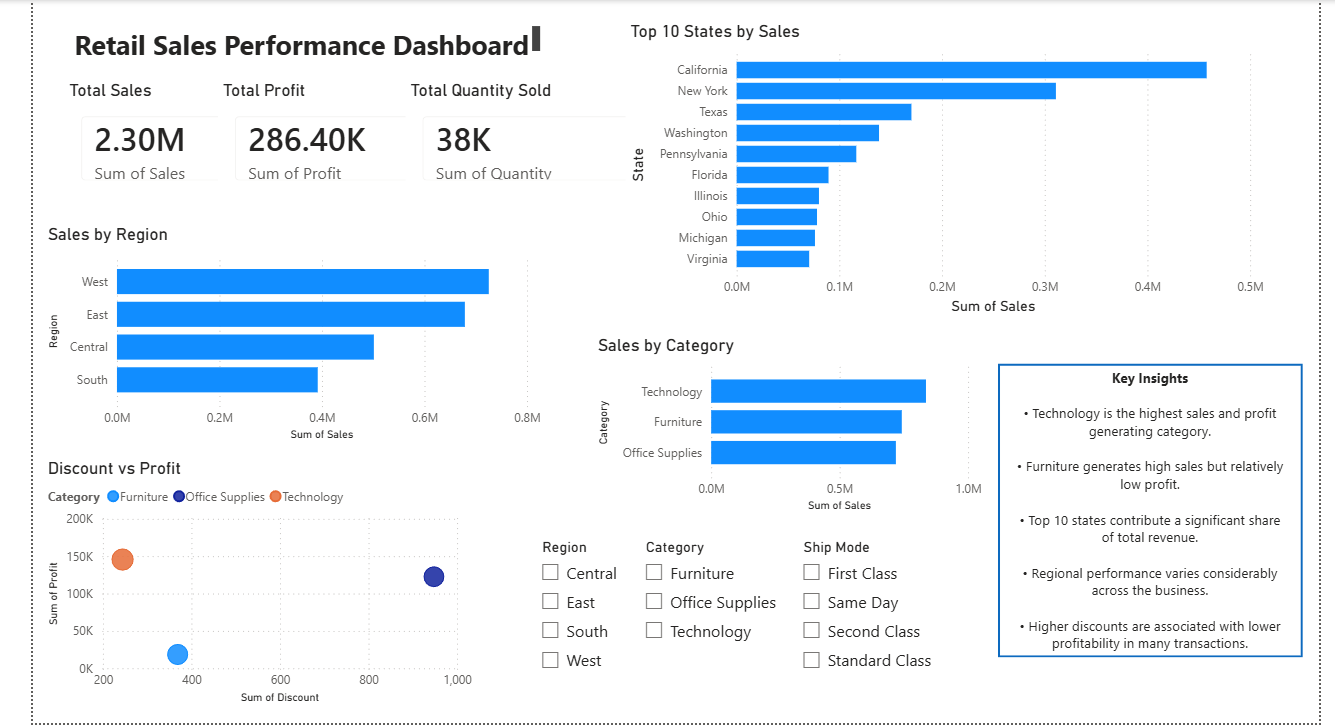

Layout of this report page (visuals, bound fields, positions):
{"tool":"powerbi","page":{"name":"Page 1","canvas":[1280,720],"ordinal":0},"visuals":[{"type":"cardVisual","title":"Total Sales","fields":{"Data":["Sum(SampleSuperstore.Sales)"]},"box":[31.6,79.6,152.3,118],"z":0},{"type":"cardVisual","title":"Total Profit","fields":{"Data":["Sum(SampleSuperstore.Profit)"]},"box":[183.9,79.6,175.6,118],"z":1000},{"type":"cardVisual","title":"Total Quantity Sold","fields":{"Data":["Sum(SampleSuperstore.Quantity)"]},"box":[370.5,79.6,197.6,118],"z":2000},{"type":"clusteredBarChart","title":"Sales by Category","fields":{"Category":["SampleSuperstore.Category"],"Y":["Sum(SampleSuperstore.Sales)"]},"box":[557.1,333.4,392.5,181.1],"z":3000},{"type":"clusteredBarChart","title":"Sales by Region","fields":{"Category":["SampleSuperstore.Region"],"Y":["Sum(SampleSuperstore.Sales)"]},"box":[9.6,222.3,500.9,220.9],"z":4000},{"type":"textbox","box":[31.6,20.6,478.9,39.8],"z":4002},{"type":"clusteredBarChart","title":"Top 10 States by Sales","fields":{"Category":["SampleSuperstore.State"],"Y":["Sum(SampleSuperstore.Sales)"]},"box":[590.1,20.6,640.8,296.4],"z":4003},{"type":"scatterChart","title":"Discount vs Profit","fields":{"X":["Sum(SampleSuperstore.Discount)"],"Y":["Sum(SampleSuperstore.Profit)"],"Size":["Sum(SampleSuperstore.Sales)"],"Series":["SampleSuperstore.Category"]},"box":[9.6,455.6,432.2,249.7],"z":4004},{"type":"slicer","fields":{"Values":["SampleSuperstore.Region"]},"box":[494,531,111.1,145.5],"z":4005},{"type":"slicer","fields":{"Values":["SampleSuperstore.Category"]},"box":[596.9,531,156.4,123.5],"z":4006},{"type":"slicer","fields":{"Values":["SampleSuperstore.Ship Mode"]},"box":[753.3,531,149.6,153.7],"z":4007},{"type":"textbox","box":[970.2,362.3,282.7,322.5],"z":4008},{"type":"shape","box":[959.1,353.3,304.8,332.1],"z":4009},{"type":"shape","box":[31.6,100.2,536.5,97.4],"z":4010},{"type":"shape","box":[222.3,100.2,288.2,97.4],"z":4011},{"type":"shape","box":[31.6,101.5,299.1,97.4],"z":4012}]}

Visuals, with their boxes on the page's 1280x720 design canvas (x1, y1, x2, y2). These are canvas units, not pixel positions in the 1335x728 screenshot, which may show the page scaled, cropped or inside an application window:
"Total Sales" cardVisual: bbox(32, 80, 184, 198)
"Total Profit" cardVisual: bbox(184, 80, 360, 198)
"Total Quantity Sold" cardVisual: bbox(370, 80, 568, 198)
"Sales by Category" clusteredBarChart: bbox(557, 333, 950, 514)
"Sales by Region" clusteredBarChart: bbox(10, 222, 510, 443)
textbox: bbox(32, 21, 510, 60)
"Top 10 States by Sales" clusteredBarChart: bbox(590, 21, 1231, 317)
"Discount vs Profit" scatterChart: bbox(10, 456, 442, 705)
slicer - SampleSuperstore.Region: bbox(494, 531, 605, 676)
slicer - SampleSuperstore.Category: bbox(597, 531, 753, 654)
slicer - SampleSuperstore.Ship Mode: bbox(753, 531, 903, 685)
textbox: bbox(970, 362, 1253, 685)
shape: bbox(959, 353, 1264, 685)
shape: bbox(32, 100, 568, 198)
shape: bbox(222, 100, 510, 198)
shape: bbox(32, 102, 331, 199)
